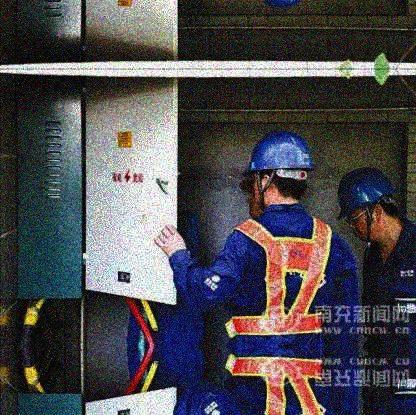helmet: (243, 130, 316, 207), (336, 169, 399, 247), (238, 171, 262, 218)
